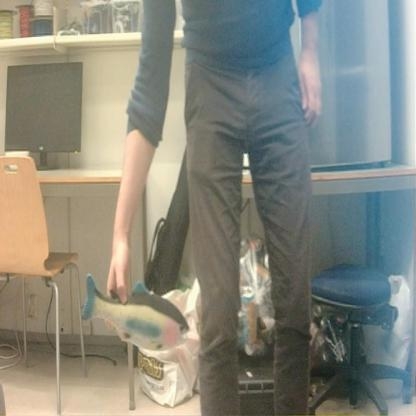rubberfish: (76, 269, 192, 361)
